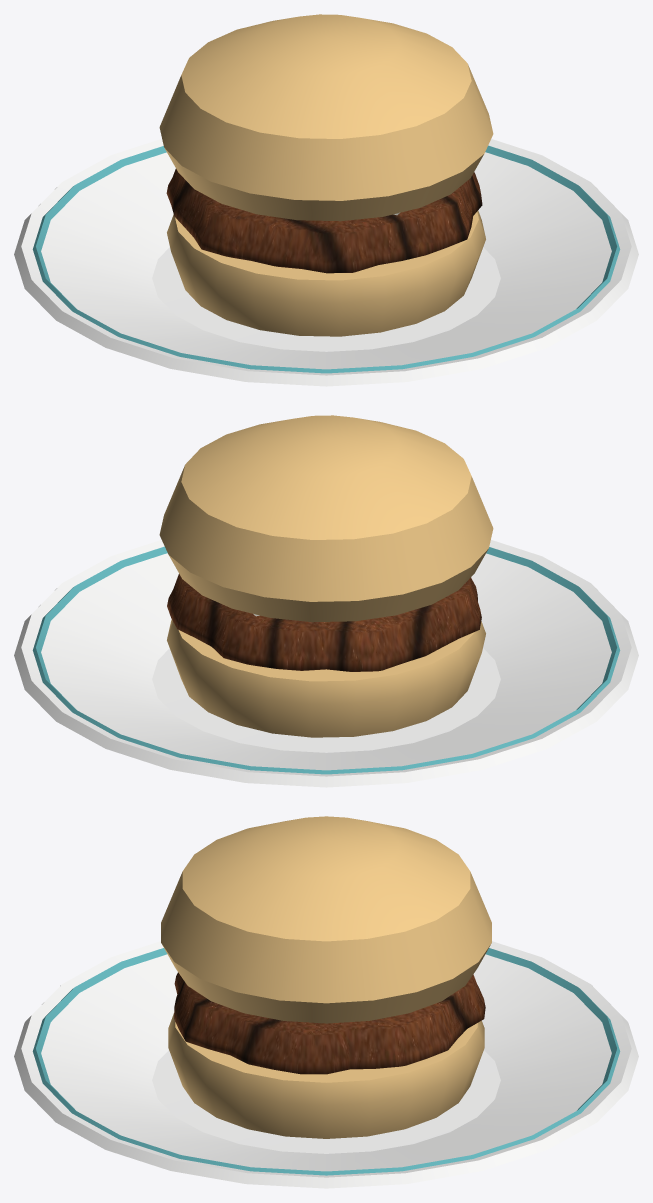
The model's file is kr_dish_burger.glb.
3 views of the same model, one above another, from view 1: azimuth 30°, elevation 25°; view 2: azimuth 150°, elevation 25°; view 3: azimuth 270°, elevation 25° (orthographic).
Visible parts, largest first — view 1: vc_m0_r4, vc_m0_r2, kr_dish_burger_f_ground_cooked; view 2: vc_m0_r4, vc_m0_r2, kr_dish_burger_f_ground_cooked; view 3: vc_m0_r4, vc_m0_r2, kr_dish_burger_f_ground_cooked.
Boxes of the visible parts, x1,y1,x2,y2 form: vc_m0_r4: (32,14,620,373); vc_m0_r2: (14,139,638,386); kr_dish_burger_f_ground_cooked: (166,169,482,273); vc_m0_r4: (32,415,620,774); vc_m0_r2: (14,540,638,787); kr_dish_burger_f_ground_cooked: (167,574,481,671); vc_m0_r4: (32,816,620,1175); vc_m0_r2: (14,941,638,1188); kr_dish_burger_f_ground_cooked: (174,972,485,1074).
Bounding box in the file's own units: 0.43 × 0.2 × 0.43.
4 materials, 1 textured.
